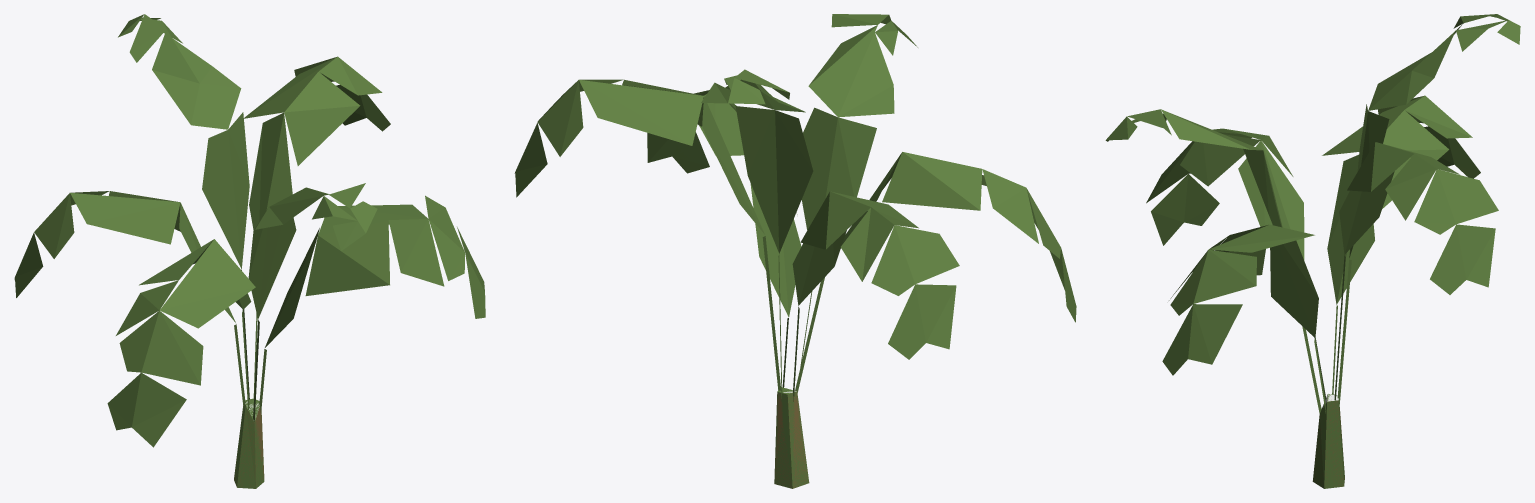
The model's file is Vegetation_Fern_Large_01.fbx.
3 renders of one model, left to right at view 1: azimuth 30°, elevation 25°; view 2: azimuth 150°, elevation 25°; view 3: azimuth 270°, elevation 25°, orthographic. The views are drawn at different scales.
Parts seen in each view (by area): view 1: Vegetation_Fern_Large_01; view 2: Vegetation_Fern_Large_01; view 3: Vegetation_Fern_Large_01.
Part boxes in pixels (bbox=[...]): Vegetation_Fern_Large_01: bbox=[14, 14, 485, 488]; Vegetation_Fern_Large_01: bbox=[514, 14, 1076, 488]; Vegetation_Fern_Large_01: bbox=[1105, 14, 1520, 488].
Size of the model in its own units: 1066 by 1119 by 928.
